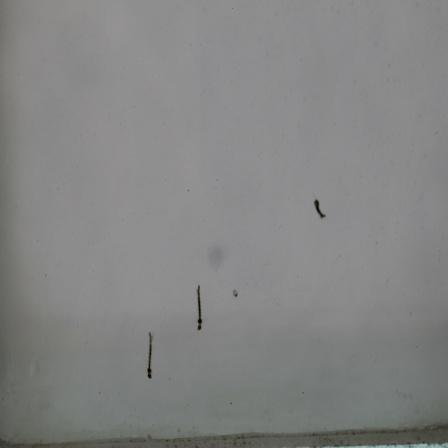Jentik-Nyamuk: (192, 281, 207, 337), (143, 331, 156, 380), (310, 198, 328, 221)
